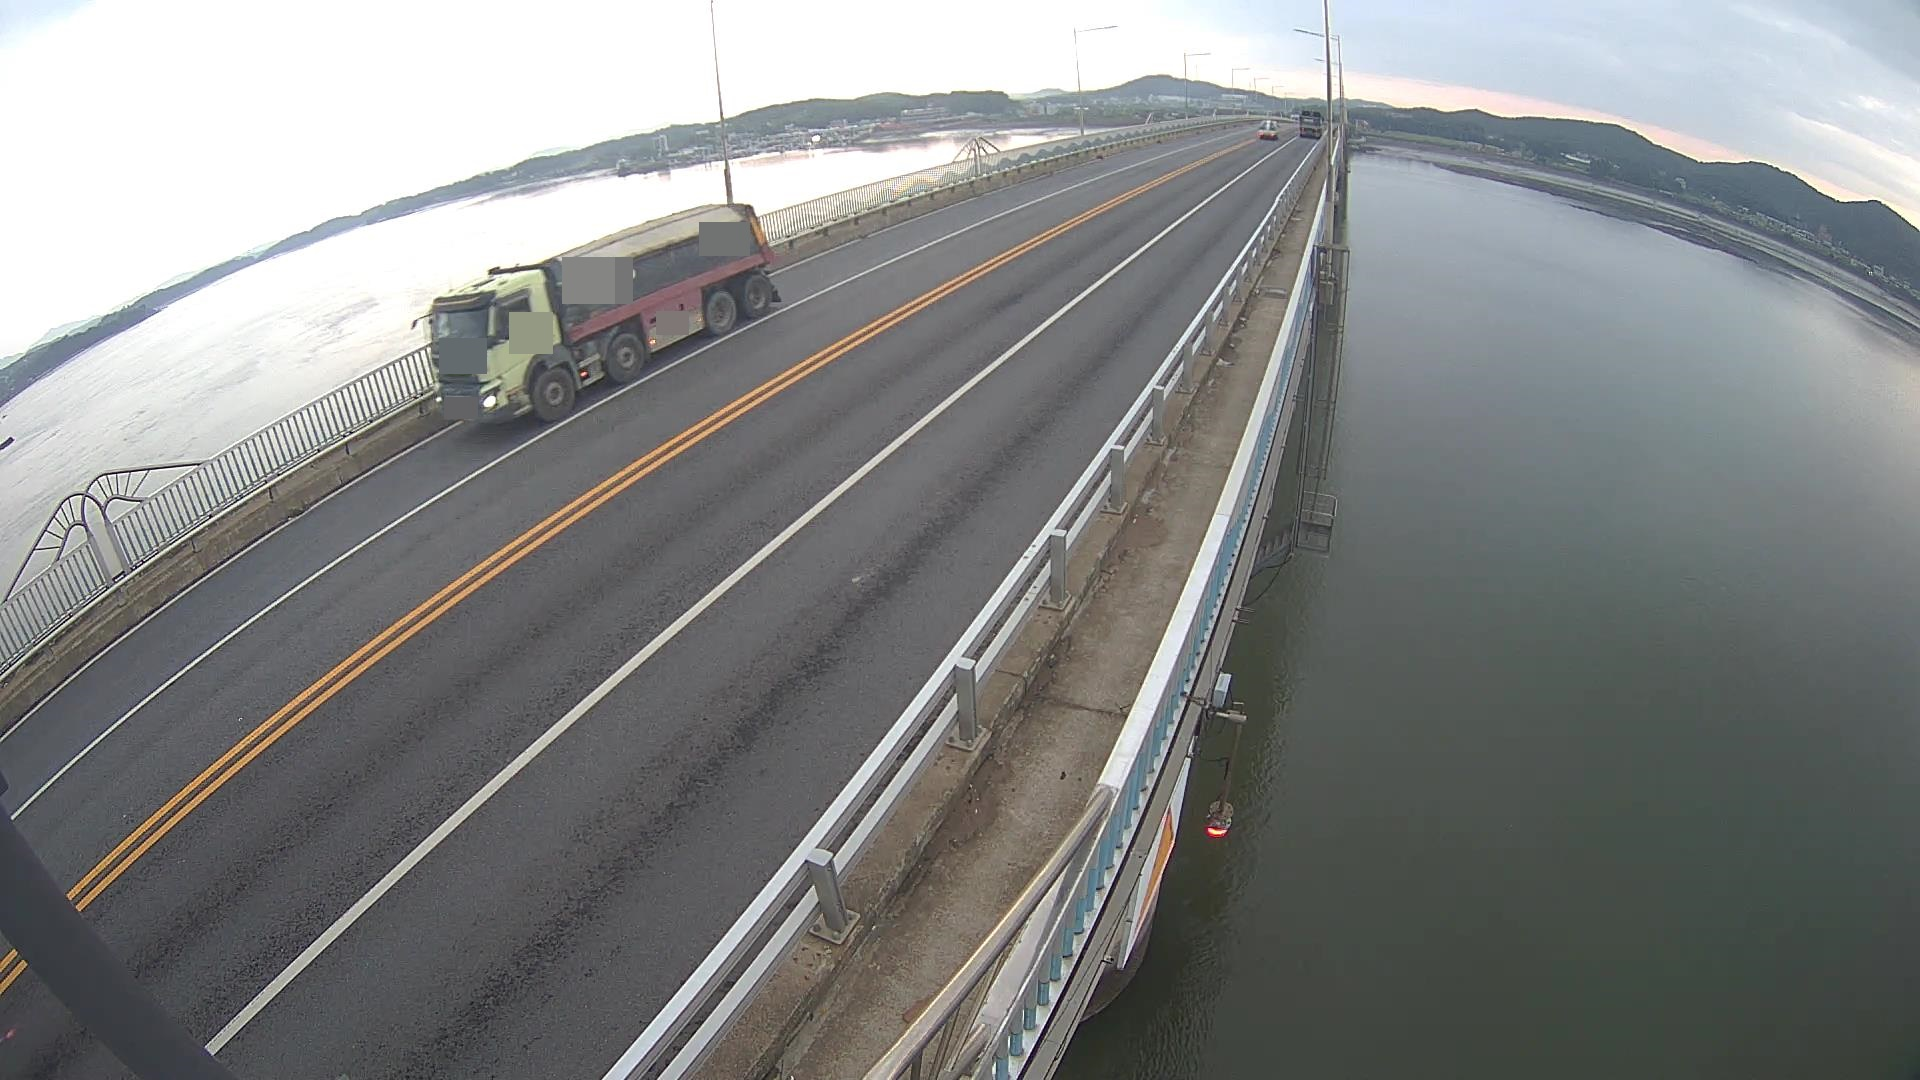정상차량: (410, 203, 782, 425)
